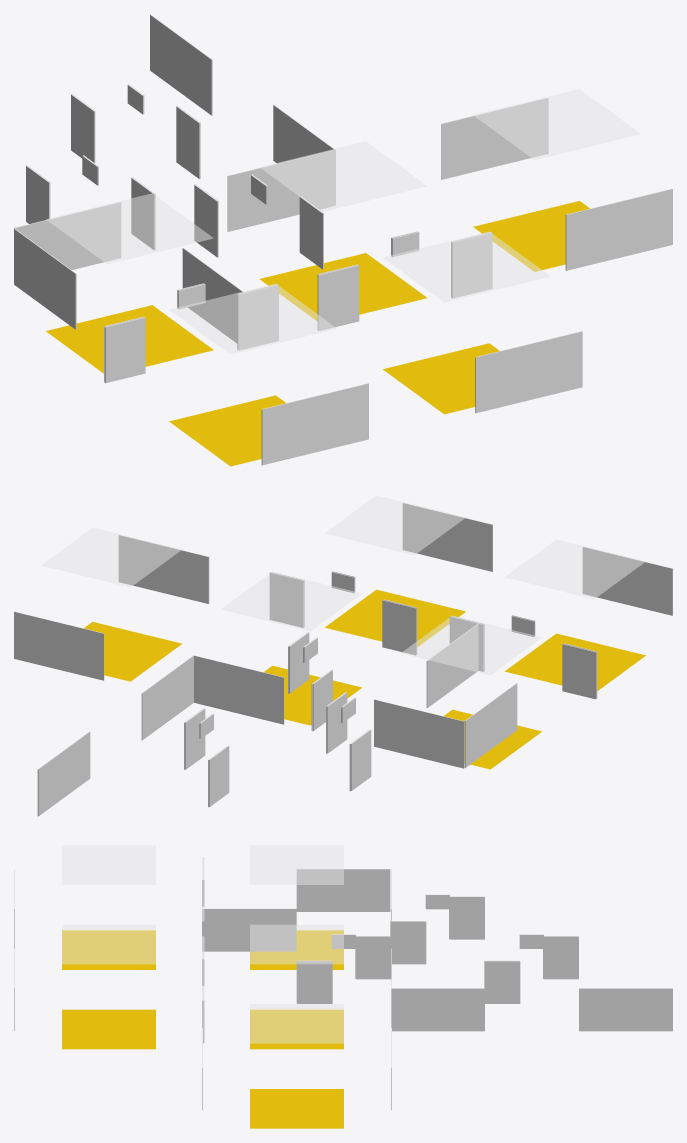
File: apartment_ffe8d406-67d8-4b22-bb88-f6cf0e1e877a.glb
3 renders of one model, top to bottom at view 1: azimuth 30°, elevation 25°; view 2: azimuth 150°, elevation 25°; view 3: azimuth 270°, elevation 25°, orthographic. The views are drawn at different scales.
Bounding box in the file's own units: 31.88 × 6 × 42.1.
